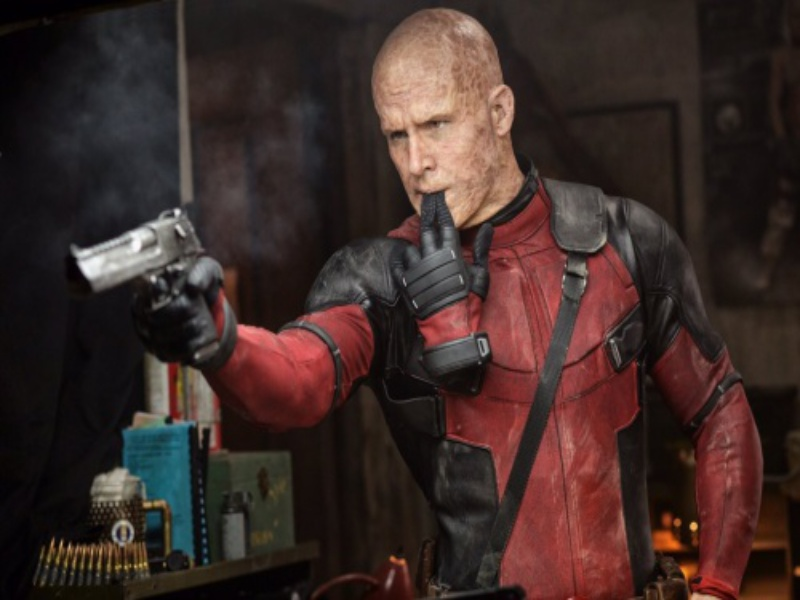person: (161, 3, 754, 600)
weapon: (67, 209, 226, 358)
